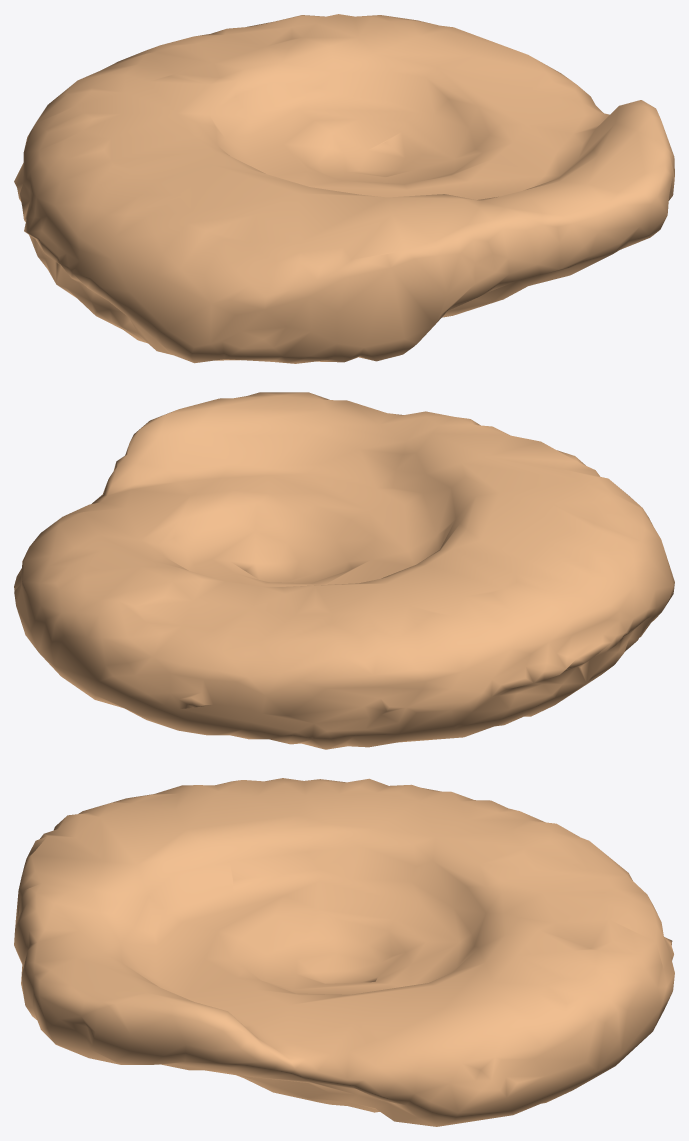
The model's file is Fossil9.fbx.
3 renders of one model, top to bottom at view 1: azimuth 30°, elevation 25°; view 2: azimuth 150°, elevation 25°; view 3: azimuth 270°, elevation 25°, orthographic. The views are drawn at different scales.
Parts seen in each view (by area): view 1: fossil14; view 2: fossil14; view 3: fossil14.
Part boxes in pixels (x1=…): fossil14: x1=14, y1=14, x2=674, y2=363; fossil14: x1=14, y1=392, x2=674, y2=749; fossil14: x1=14, y1=778, x2=674, y2=1126.
Bounding box in the file's own units: 81.67 × 21.77 × 81.03.
